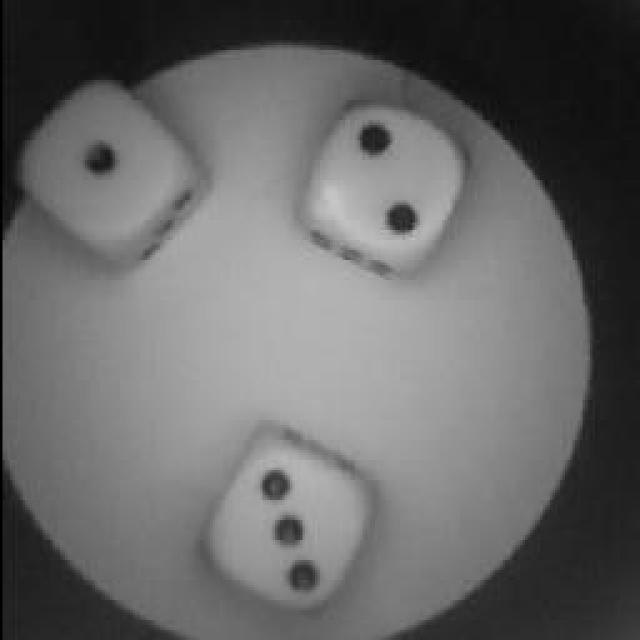dice_1: (18, 88, 190, 262)
dice_2: (300, 108, 465, 278)
dice_3: (200, 437, 372, 615)
